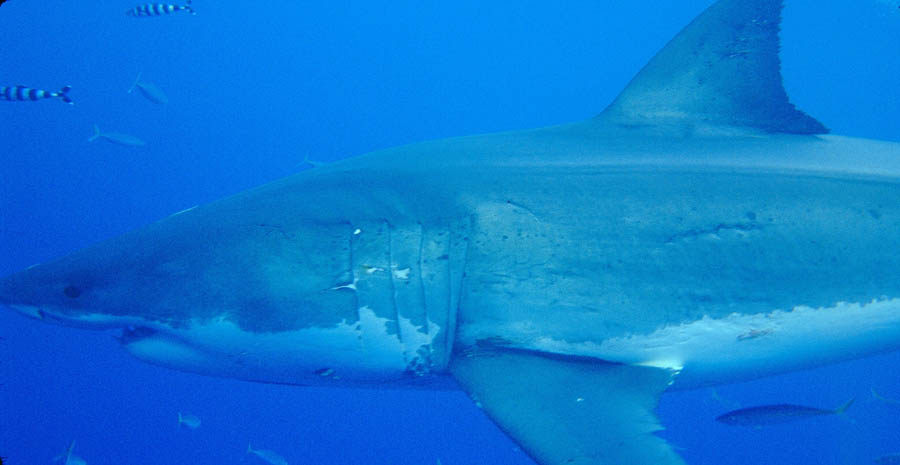Carcharodon_carcharias: (2, 1, 900, 463)
